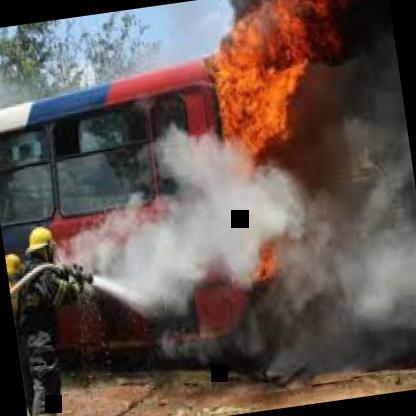fire: (0, 0, 416, 359)
